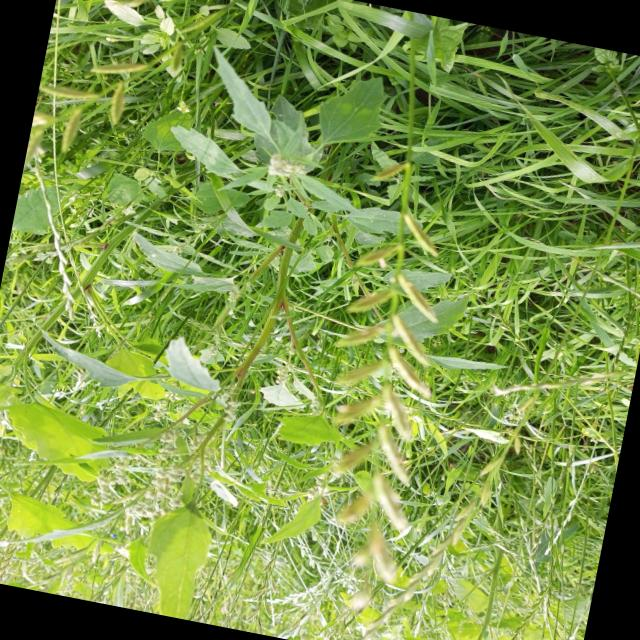Lolium: (0, 0, 640, 640), (276, 163, 552, 640)
